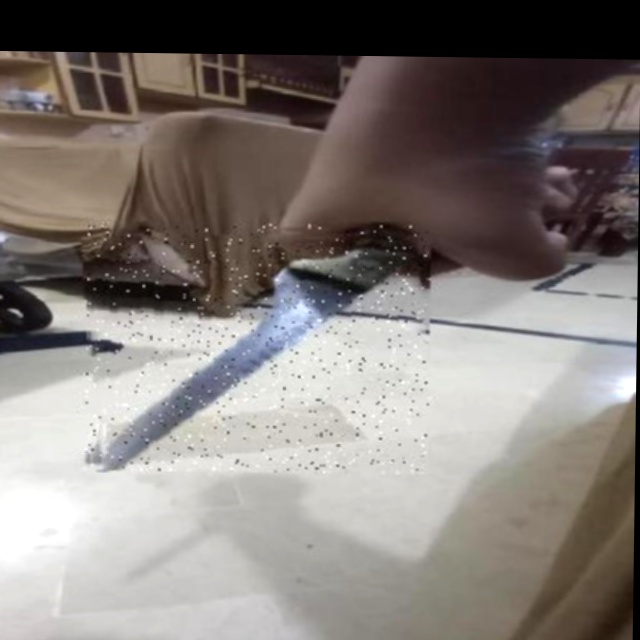Sharp-Object: (84, 221, 431, 473)
